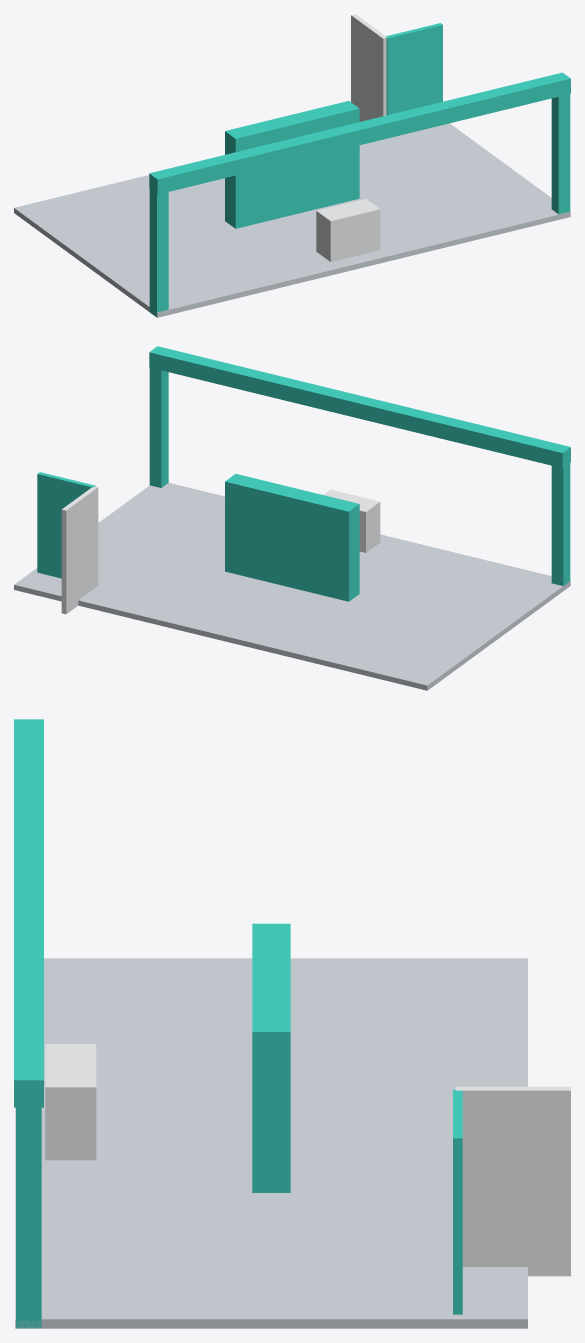
3 views of the same model, one above another, from view 1: azimuth 30°, elevation 25°; view 2: azimuth 150°, elevation 25°; view 3: azimuth 270°, elevation 25° (orthographic). The views are drawn at different scales.
Visible parts, largest first — view 1: Exhibition Booth Concept; view 2: Exhibition Booth Concept; view 3: Exhibition Booth Concept.
Boxes of the visible parts, x1,y1,x2,y2 form: Exhibition Booth Concept: (14, 14, 570, 317); Exhibition Booth Concept: (14, 346, 570, 690); Exhibition Booth Concept: (14, 719, 570, 1328).
Size of the model in its own units: 10 by 3.2 by 6.52.
